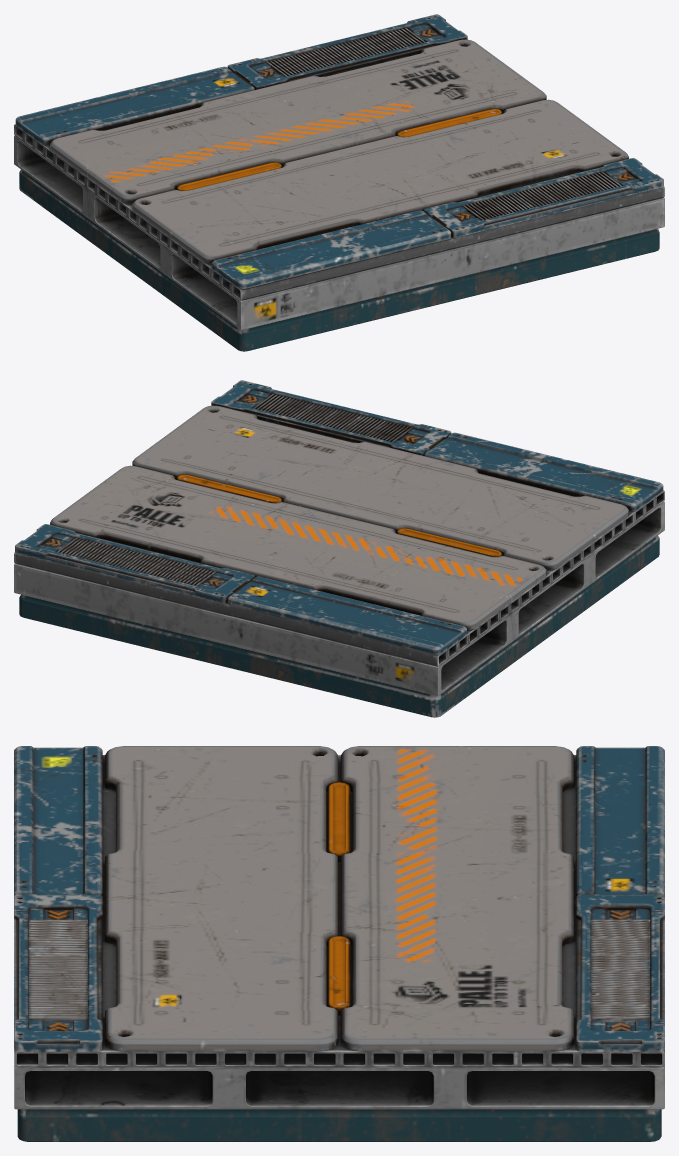
The model's file is SM_Pallet01.fbx.
3 renders of one model, top to bottom at view 1: azimuth 30°, elevation 25°; view 2: azimuth 150°, elevation 25°; view 3: azimuth 270°, elevation 25°, orthographic. The views are drawn at different scales.
Visible parts, largest first — view 1: SM_Pallet01_LOD0; view 2: SM_Pallet01_LOD0; view 3: SM_Pallet01_LOD0.
Boxes of the visible parts, bbox=[...] form: SM_Pallet01_LOD0: bbox=[14, 14, 664, 351]; SM_Pallet01_LOD0: bbox=[14, 380, 664, 717]; SM_Pallet01_LOD0: bbox=[14, 746, 664, 1141].
Bounding box in the file's own units: 126 × 117 × 20.92.
Materials: 1 (1 with a texture image).
